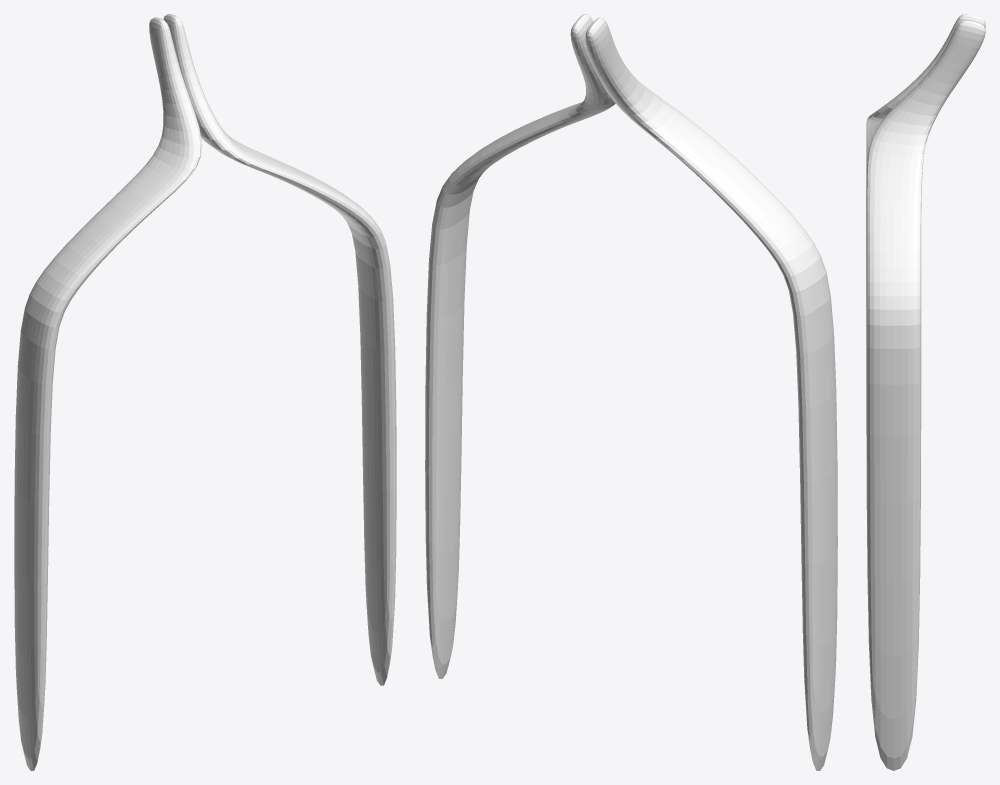
Rendered from liquid.glb.
3 renders of one model, left to right at view 1: azimuth 30°, elevation 25°; view 2: azimuth 150°, elevation 25°; view 3: azimuth 270°, elevation 25°, orthographic. The views are drawn at different scales.
Parts seen in each view (by area): view 1: liquid; view 2: liquid; view 3: liquid.
Part boxes in pixels (<box>): liquid: <box>14,14,396,770</box>; liquid: <box>425,14,837,770</box>; liquid: <box>866,14,985,770</box>.
Size of the model in its own units: 0.5702 by 1.02 by 0.1645.
Materials: 1 (1 with a texture image).
